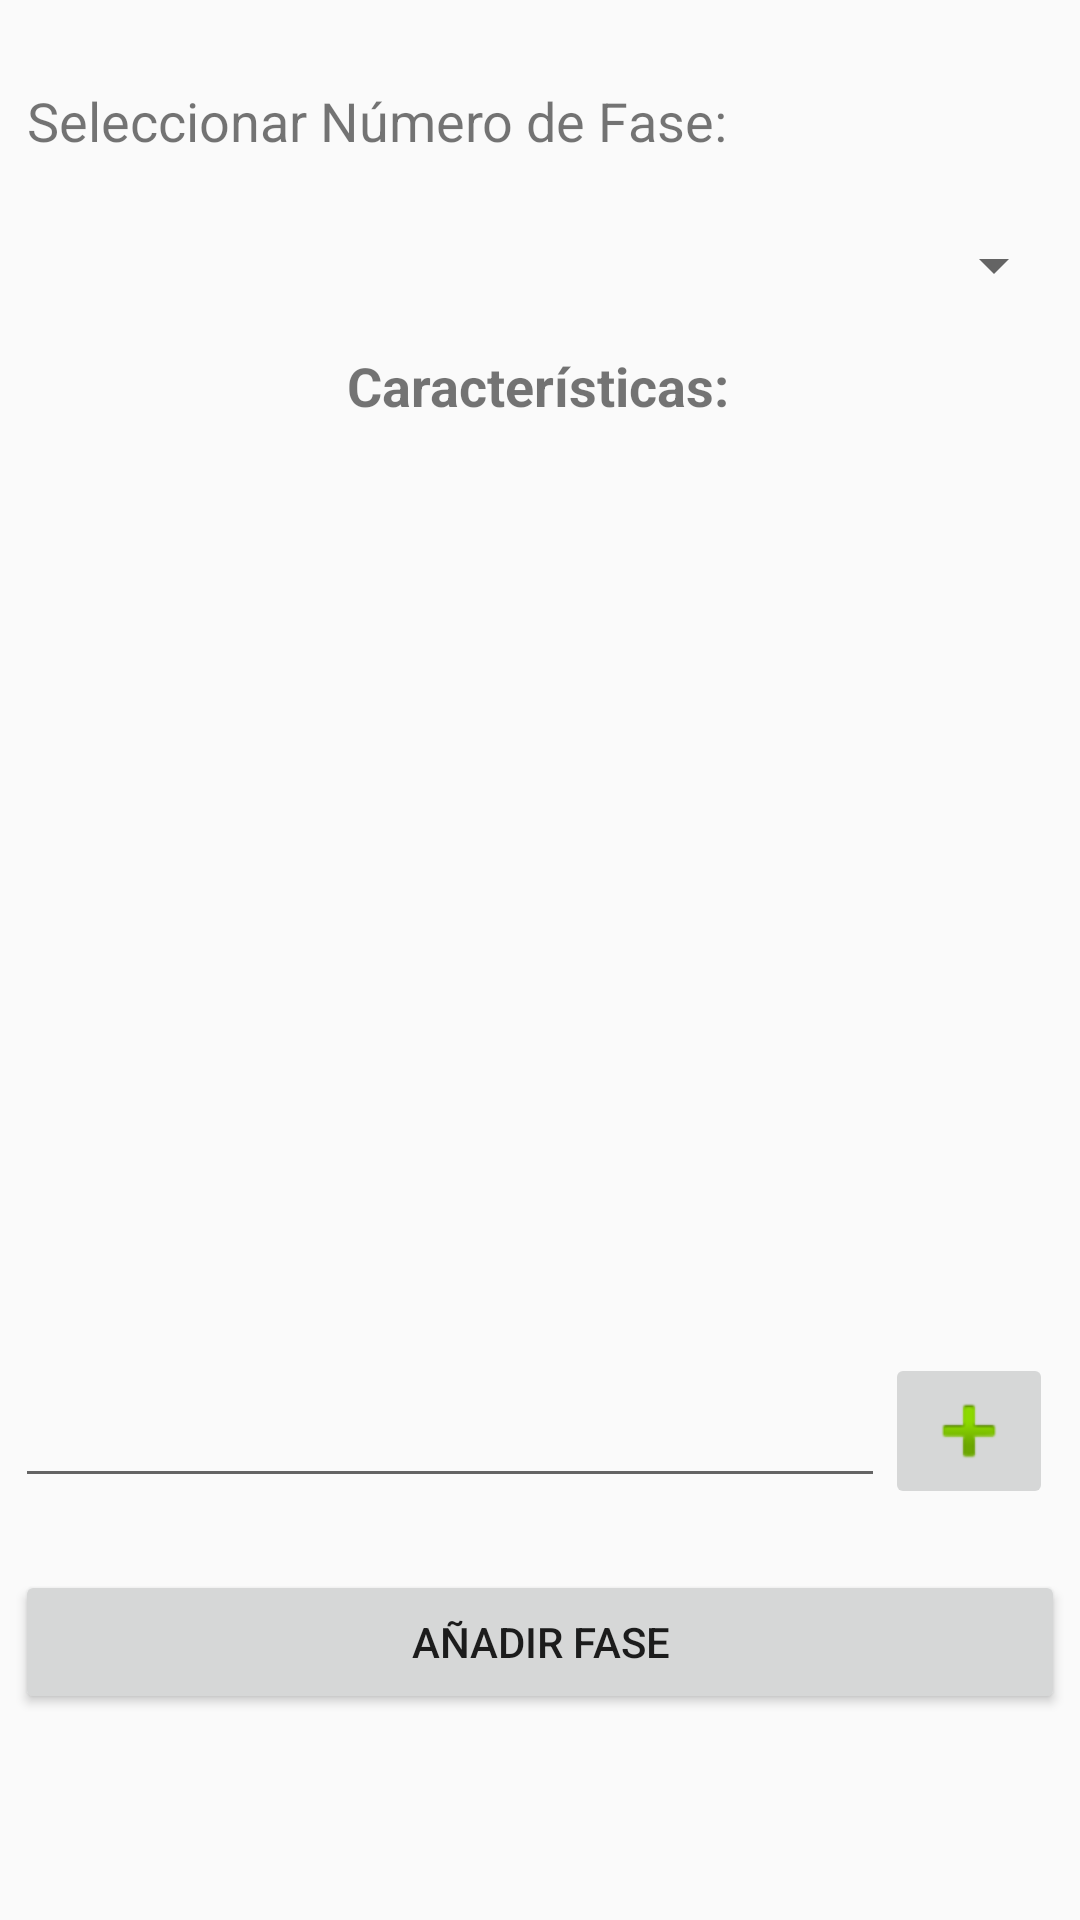

Where icons sit on this 1080 × 1920 app screen, as detection(x1, y1, x2, y2):
Añadir Característica: detection(897, 1371, 1041, 1491)
